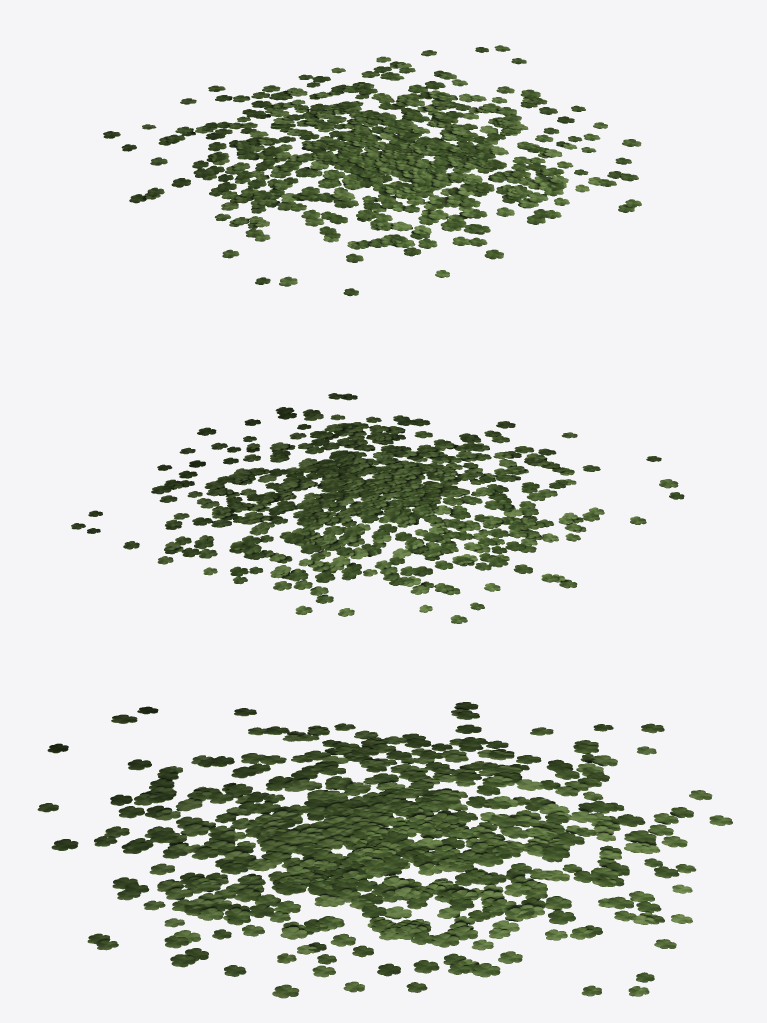
File: lake2.fbx
3 renders of one model, top to bottom at view 1: azimuth 30°, elevation 25°; view 2: azimuth 150°, elevation 25°; view 3: azimuth 270°, elevation 25°, orthographic. The views are drawn at different scales.
Parts seen in each view (by area): view 1: Clover-01; view 2: Clover-01; view 3: Clover-01.
Part boxes in pixels (bbox=[...]): Clover-01: bbox=[103, 45, 641, 296]; Clover-01: bbox=[71, 393, 684, 623]; Clover-01: bbox=[37, 702, 732, 998].
Bounding box in the file's own units: 161 × 6.98 × 161.
